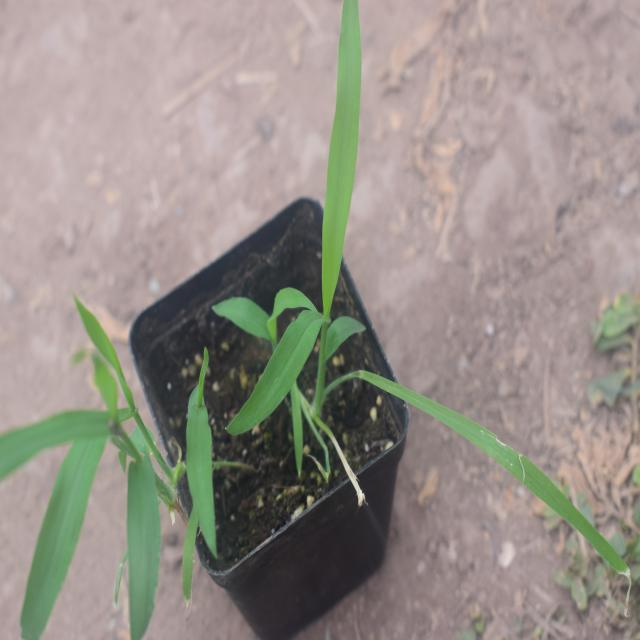crabgrass: (221, 0, 429, 425), (0, 290, 246, 596)
